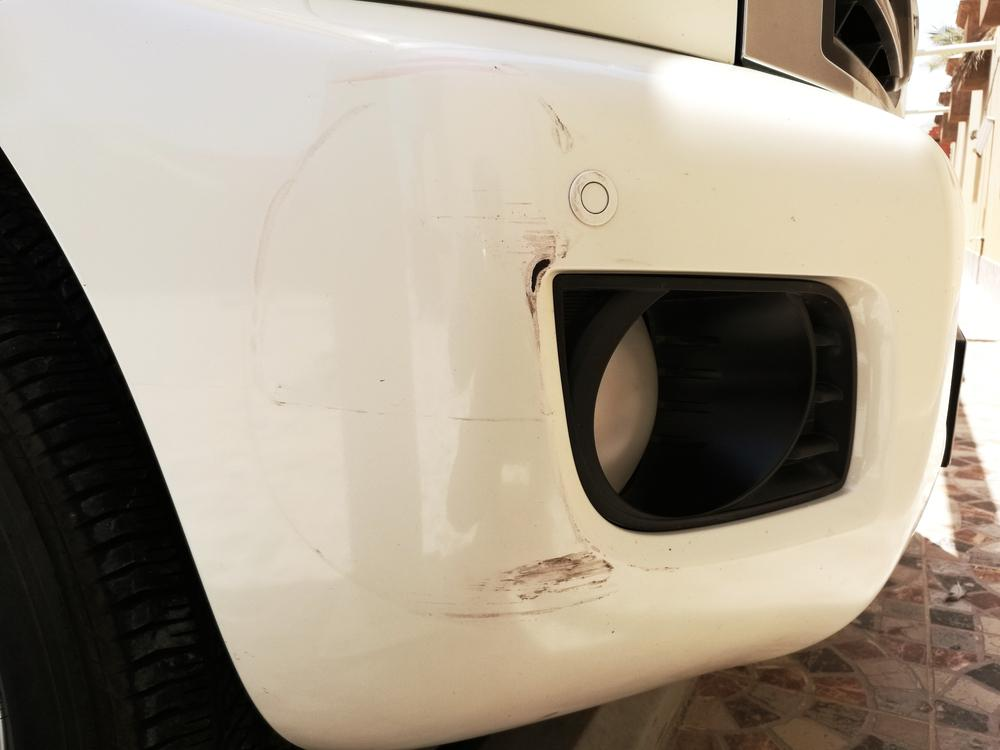scratch: (238, 61, 614, 635), (494, 98, 583, 329)
